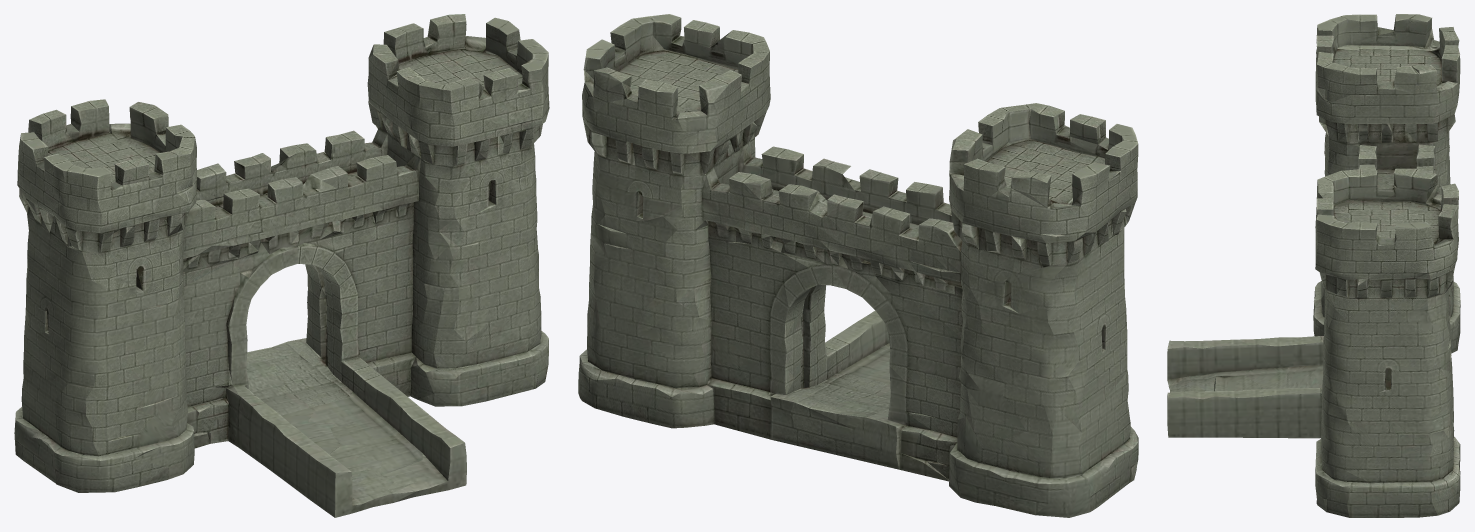
The model's file is inner_gate.glb.
The picture shows the model from 3 angles, left to right: view 1: azimuth 30°, elevation 25°; view 2: azimuth 150°, elevation 25°; view 3: azimuth 270°, elevation 25°; orthographic projection. The views are drawn at different scales.
Parts seen in each view (by area): view 1: output_unwrapped; view 2: output_unwrapped; view 3: output_unwrapped.
Part boxes in pixels (left/top/right/bottom): output_unwrapped: left=14, top=14, right=549, bottom=517; output_unwrapped: left=578, top=14, right=1138, bottom=517; output_unwrapped: left=1167, top=14, right=1460, bottom=517.
Bounding box in the file's own units: 1.9 × 1.2 × 1.09.
Materials: 1 (1 with a texture image).
